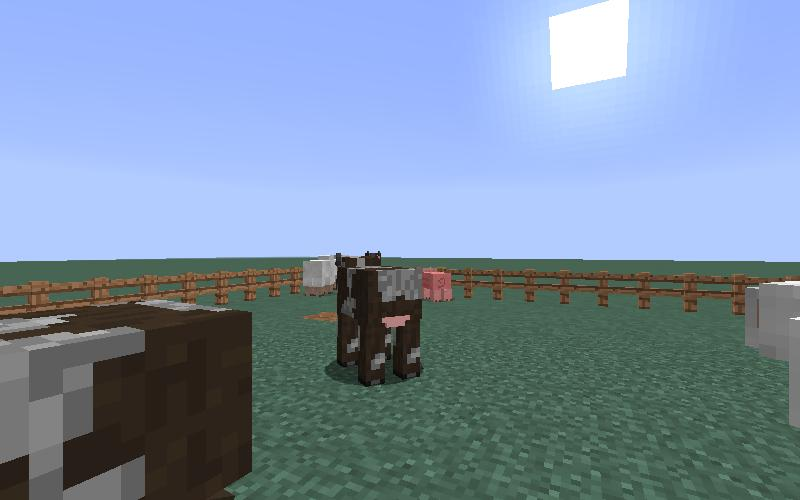cow: (2, 297, 252, 496), (334, 256, 426, 390)
pig: (420, 264, 453, 302)
sheep: (746, 281, 800, 425), (301, 256, 339, 302)
